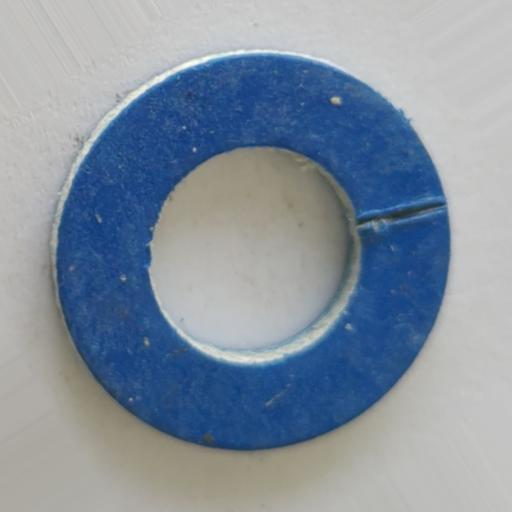defect: (355, 197, 447, 229)
